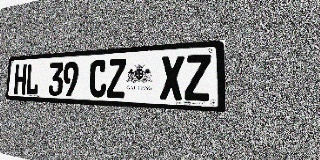3: (48, 62, 63, 96)
9: (62, 61, 79, 96)
C: (89, 60, 107, 97)
H: (14, 64, 27, 95)
L: (25, 63, 39, 95)
X: (160, 55, 184, 100)
Z: (184, 54, 211, 101), (107, 58, 126, 98)
